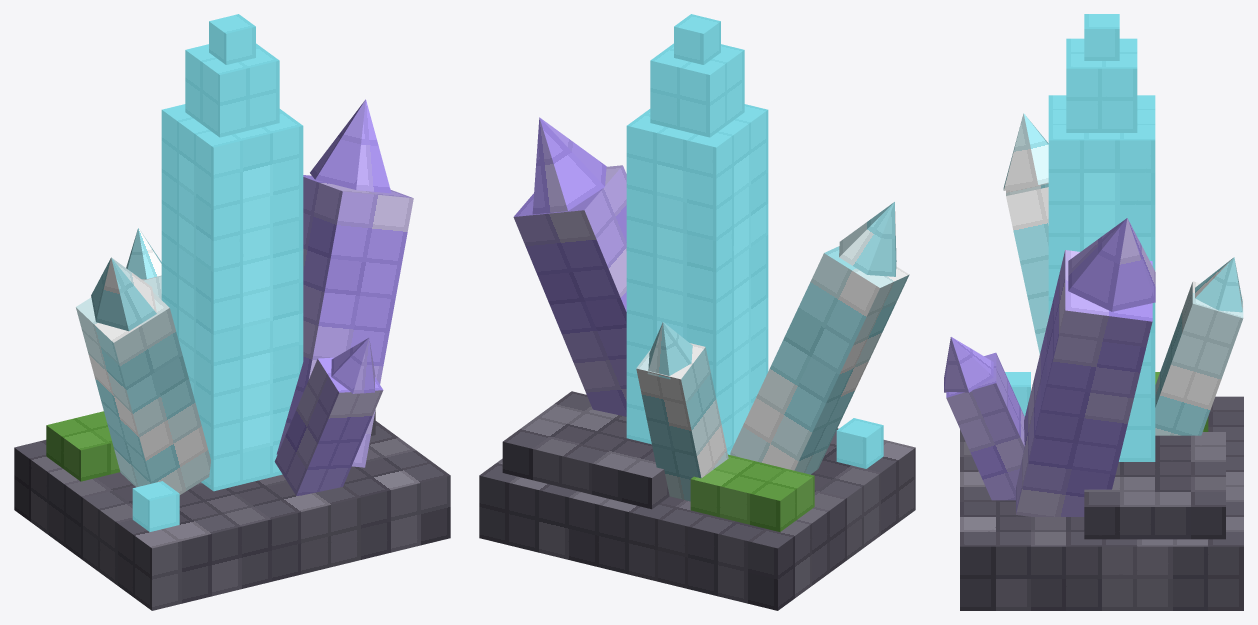
The model's file is GrottoCrystal.glb.
The picture shows the model from 3 angles, left to right: view 1: azimuth 30°, elevation 25°; view 2: azimuth 150°, elevation 25°; view 3: azimuth 270°, elevation 25°; orthographic projection. The views are drawn at different scales.
Parts seen in each view (by area): view 1: Glow, BodyDark, Accessory, Body, Trim; view 2: Glow, BodyDark, Body, Accessory, Trim; view 3: BodyDark, Accessory, Glow, Body.
Boxes of the visible parts, x1,y1,x2,y2 form: Glow: [132, 14, 303, 531]; BodyDark: [14, 410, 450, 610]; Accessory: [274, 99, 413, 495]; Body: [76, 228, 210, 494]; Trim: [46, 411, 120, 481]; Glow: [626, 14, 883, 468]; BodyDark: [479, 391, 915, 610]; Body: [636, 202, 909, 501]; Accessory: [513, 117, 626, 416]; Trim: [690, 454, 814, 531]; BodyDark: [960, 396, 1243, 610]; Accessory: [944, 218, 1155, 516]; Glow: [1005, 14, 1155, 461]; Body: [1003, 113, 1243, 435].
Size of the model in its own units: 2.79 by 4 by 2.11.
5 materials, 5 textured.
